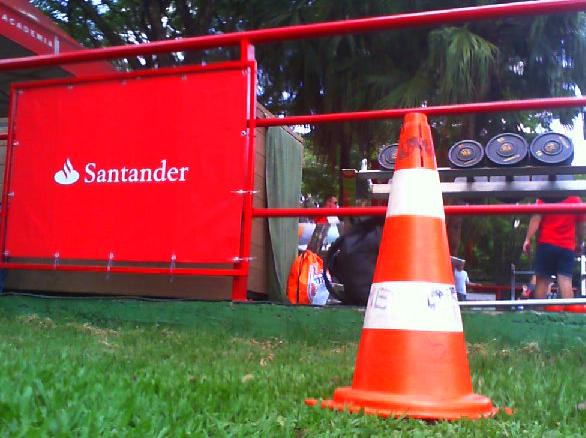0 cone: (306, 111, 512, 419)
